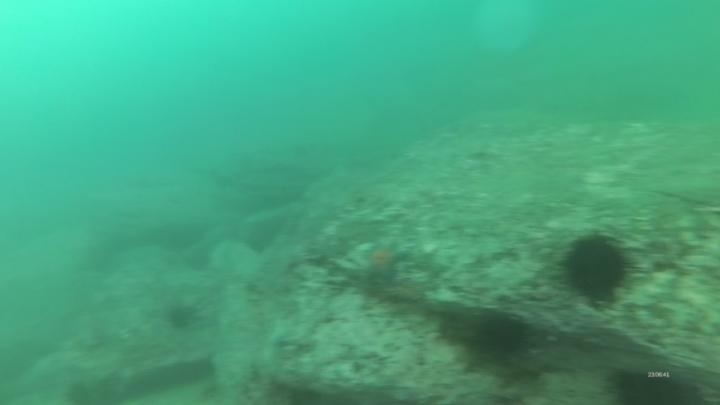echinus: (556, 230, 638, 305), (607, 363, 698, 405), (465, 310, 533, 366), (163, 300, 200, 333)
starfish: (360, 237, 411, 285)
